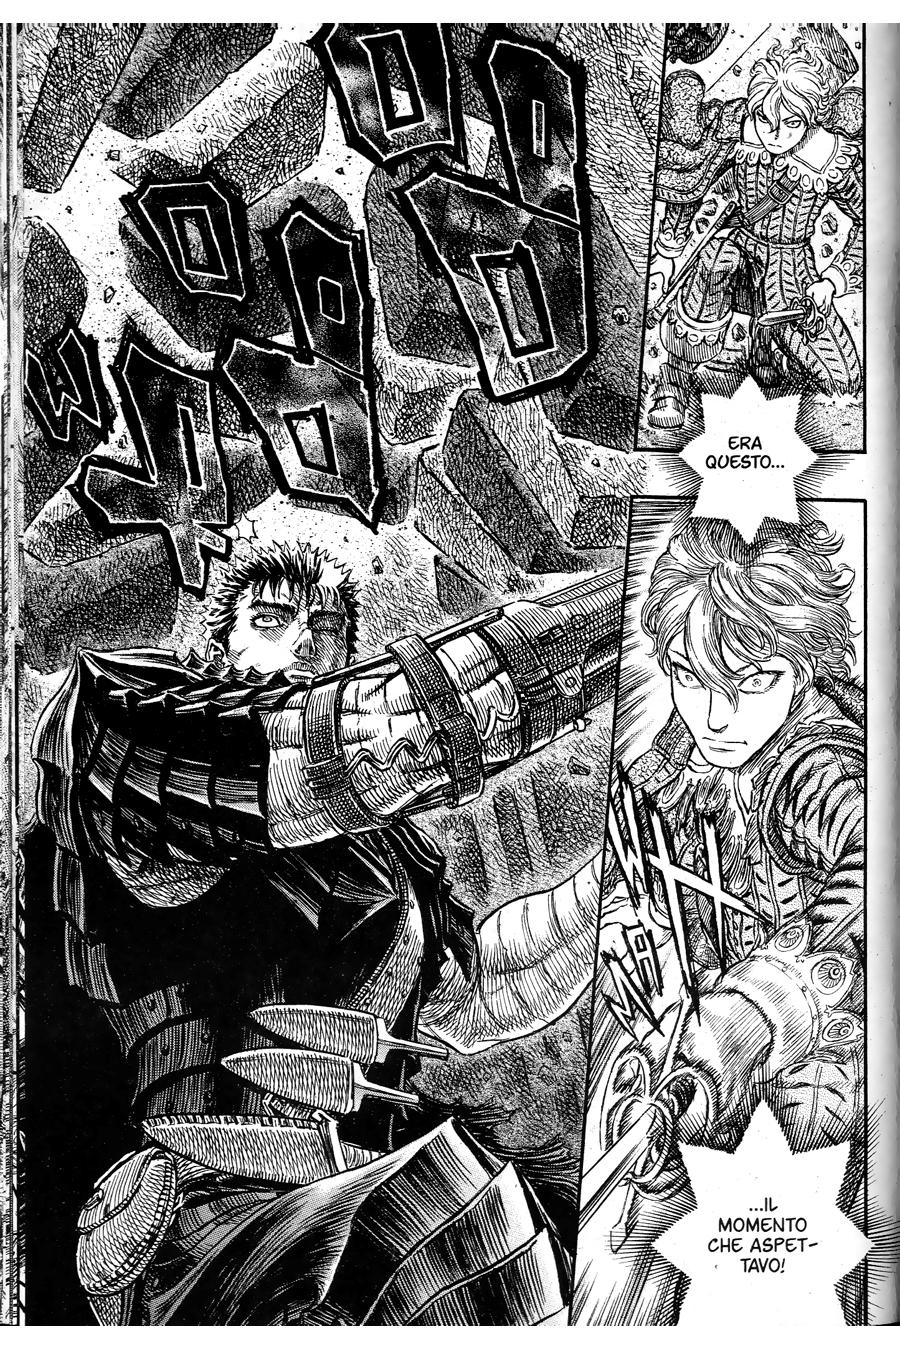Baloon: (653, 1099, 885, 1330), (677, 364, 822, 546)
Vignetta: (6, 21, 661, 1328), (567, 497, 871, 1326), (638, 19, 871, 454)
